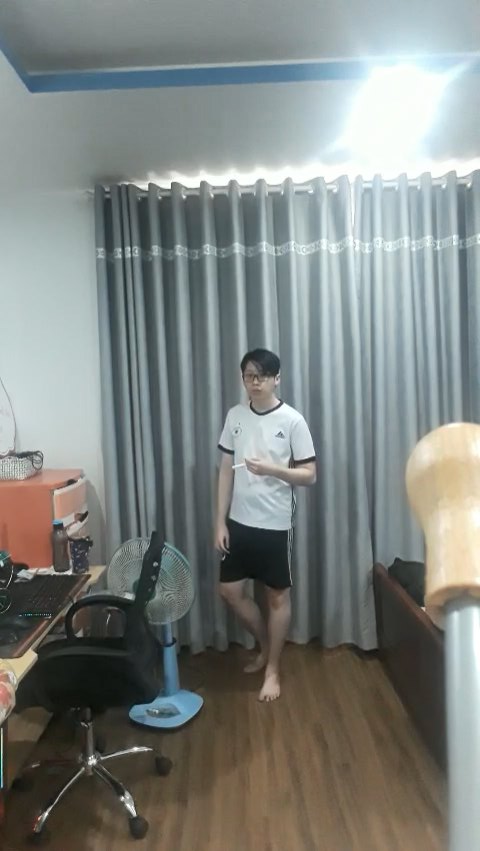cigarette: (230, 463, 245, 470)
person: (204, 341, 326, 713)
